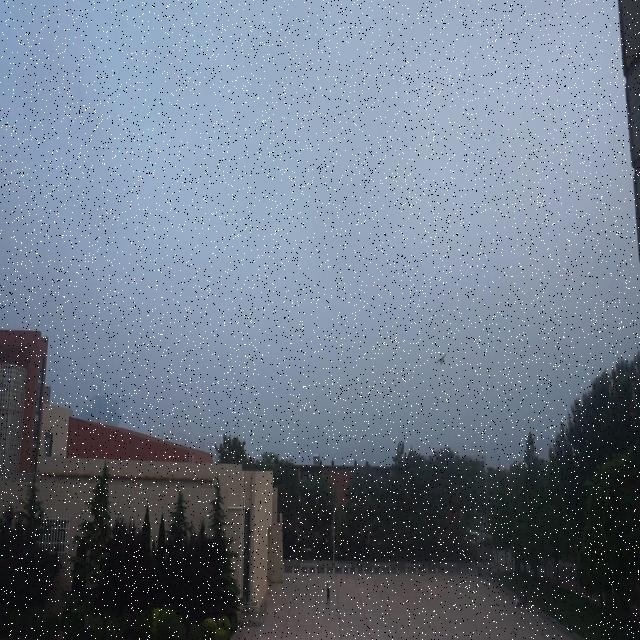UAV: (436, 354, 447, 364)
